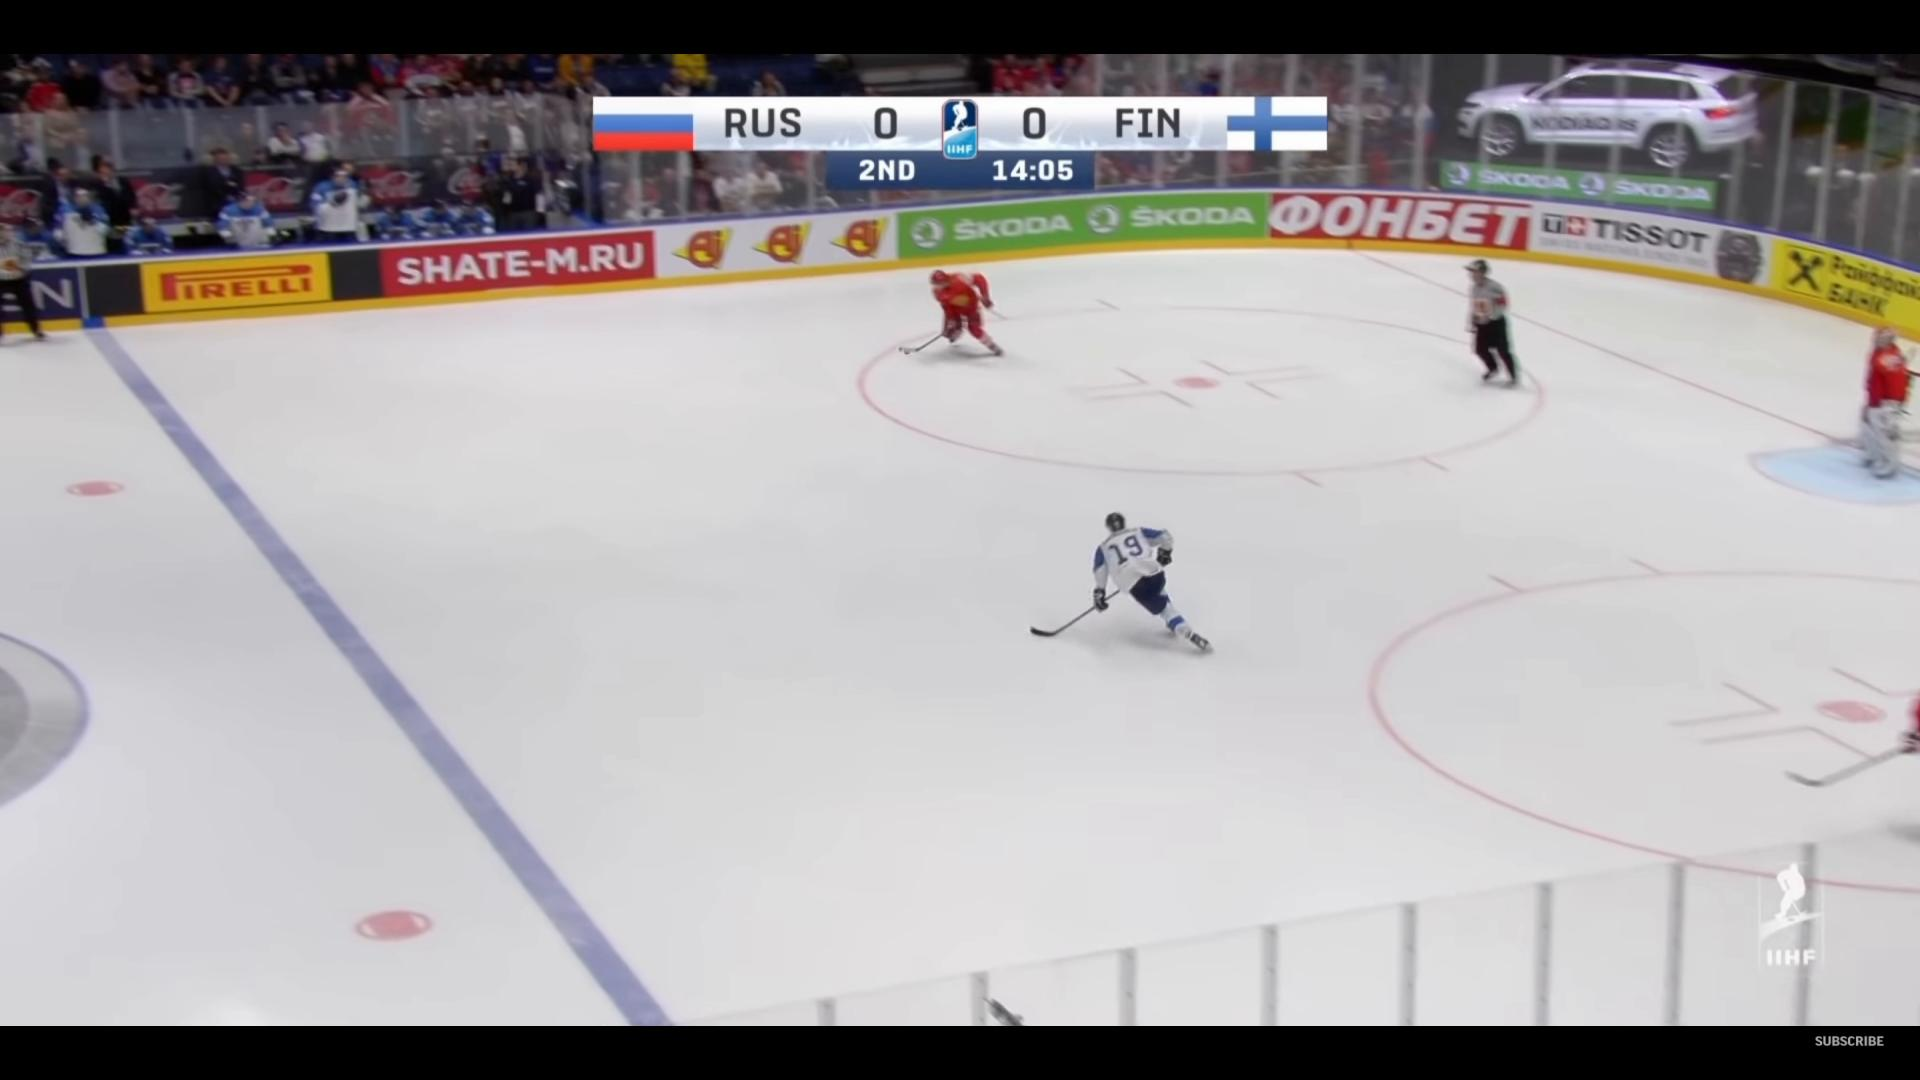puck: (903, 351, 911, 355)
